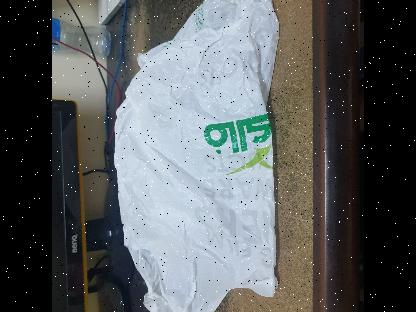Others: (114, 0, 279, 312)
